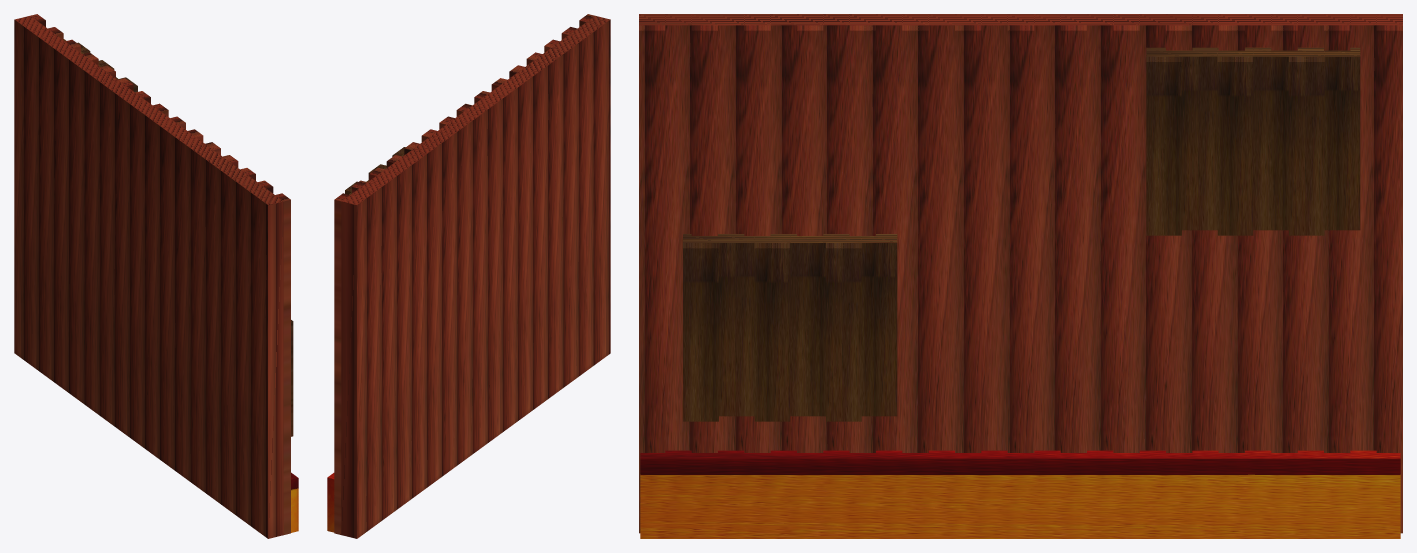
The model's file is theaterWall.fbx.
The picture shows the model from 3 angles, left to right: view 1: azimuth 30°, elevation 25°; view 2: azimuth 150°, elevation 25°; view 3: azimuth 270°, elevation 25°; orthographic projection. The views are drawn at different scales.
Visible parts, largest first — view 1: pCube1, pCube3, pCube2; view 2: pCube1, pCube3; view 3: pCube1, pCube3, pCube4, pCube2.
Part boxes in pixels (x1,y1,x2,y2): pCube1: [14, 14, 290, 538]; pCube3: [291, 472, 298, 532]; pCube2: [291, 320, 293, 436]; pCube1: [334, 14, 610, 538]; pCube3: [327, 473, 334, 532]; pCube1: [639, 14, 1402, 533]; pCube3: [640, 450, 1400, 538]; pCube4: [1146, 47, 1360, 235]; pCube2: [683, 234, 897, 421].
Size of the model in its own units: 1.26 by 10.13 by 13.95.
